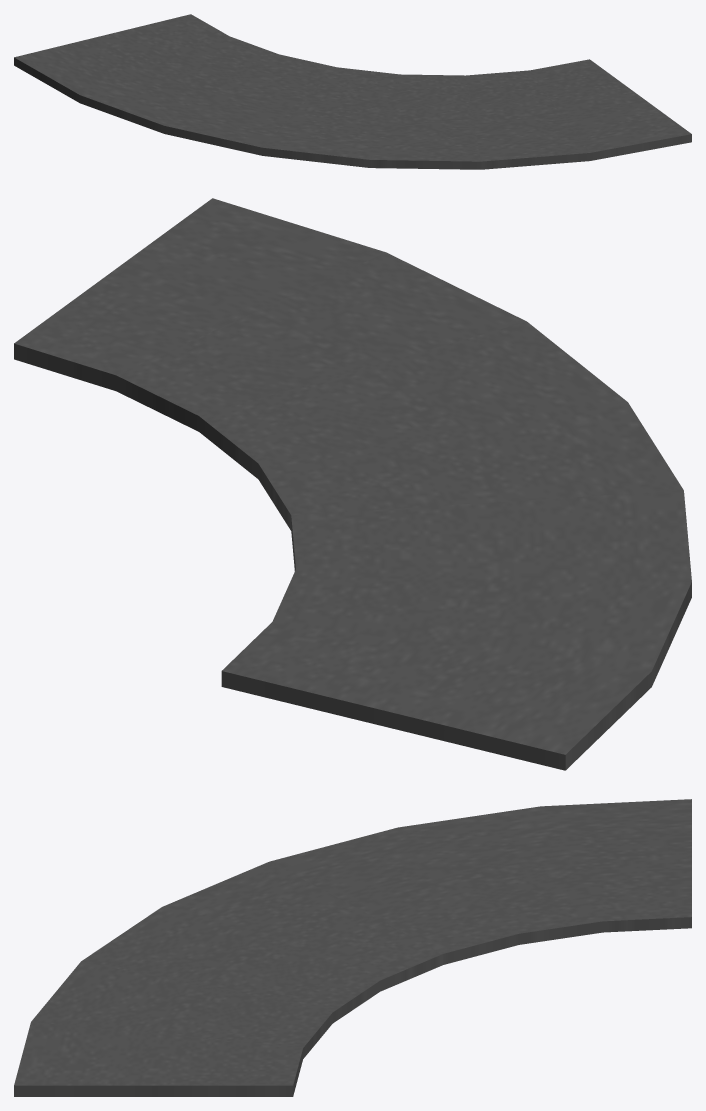
The model's file is Road Turn.fbx.
The picture shows the model from 3 angles, top to bottom: view 1: azimuth 30°, elevation 25°; view 2: azimuth 150°, elevation 25°; view 3: azimuth 270°, elevation 25°; orthographic projection. The views are drawn at different scales.
Parts seen in each view (by area): view 1: Road_Turn; view 2: Road_Turn; view 3: Road_Turn.
Boxes of the visible parts, x1,y1,x2,y2 form: Road_Turn: (14,14,691,169); Road_Turn: (14,198,691,770); Road_Turn: (14,799,691,1096).
Bounding box in the file's own units: 1086 × 19.76 × 1086.
